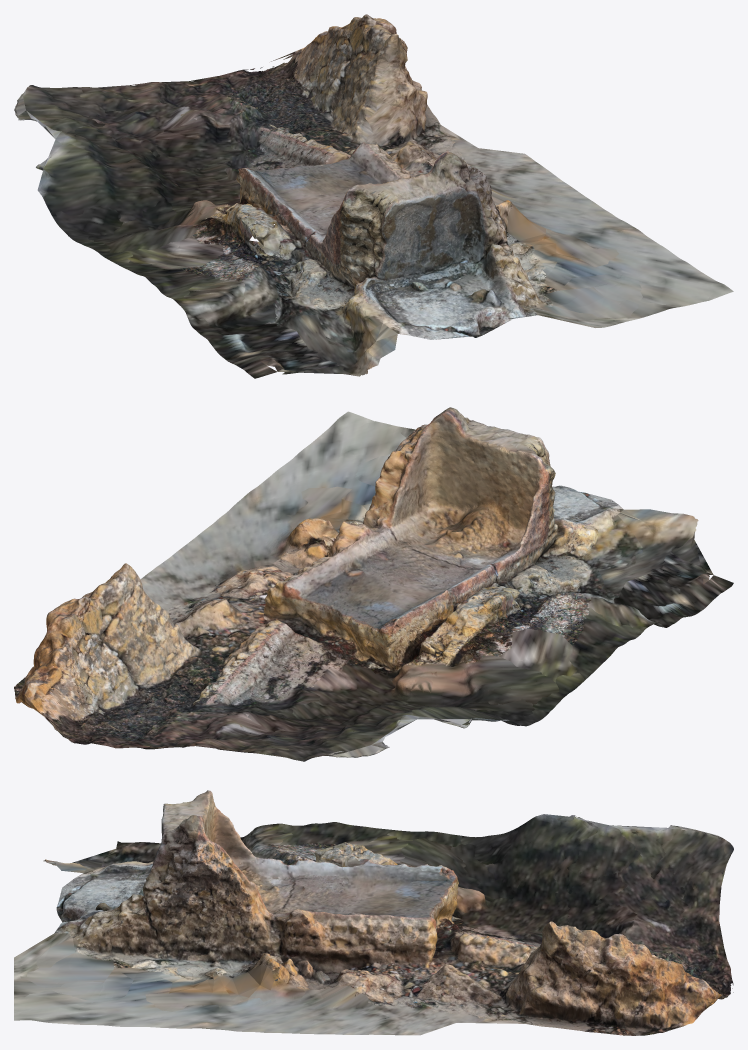
File: neapolis-site-revealed-by-floods-in-tunisia.glb
The picture shows the model from 3 angles, top to bottom: view 1: azimuth 30°, elevation 25°; view 2: azimuth 150°, elevation 25°; view 3: azimuth 270°, elevation 25°; orthographic projection. The views are drawn at different scales.
Parts seen in each view (by area): view 1: Scaniverse; view 2: Scaniverse; view 3: Scaniverse.
Boxes of the visible parts, x1,y1,x2,y2 form: Scaniverse: [14, 14, 733, 378]; Scaniverse: [14, 407, 733, 761]; Scaniverse: [14, 790, 733, 1035].
Bounding box in the file's own units: 4.82 × 1.59 × 7.29.
Materials: 1 (1 with a texture image).
